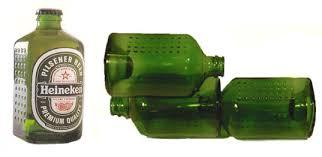Glass bottle: (2, 0, 316, 157)
